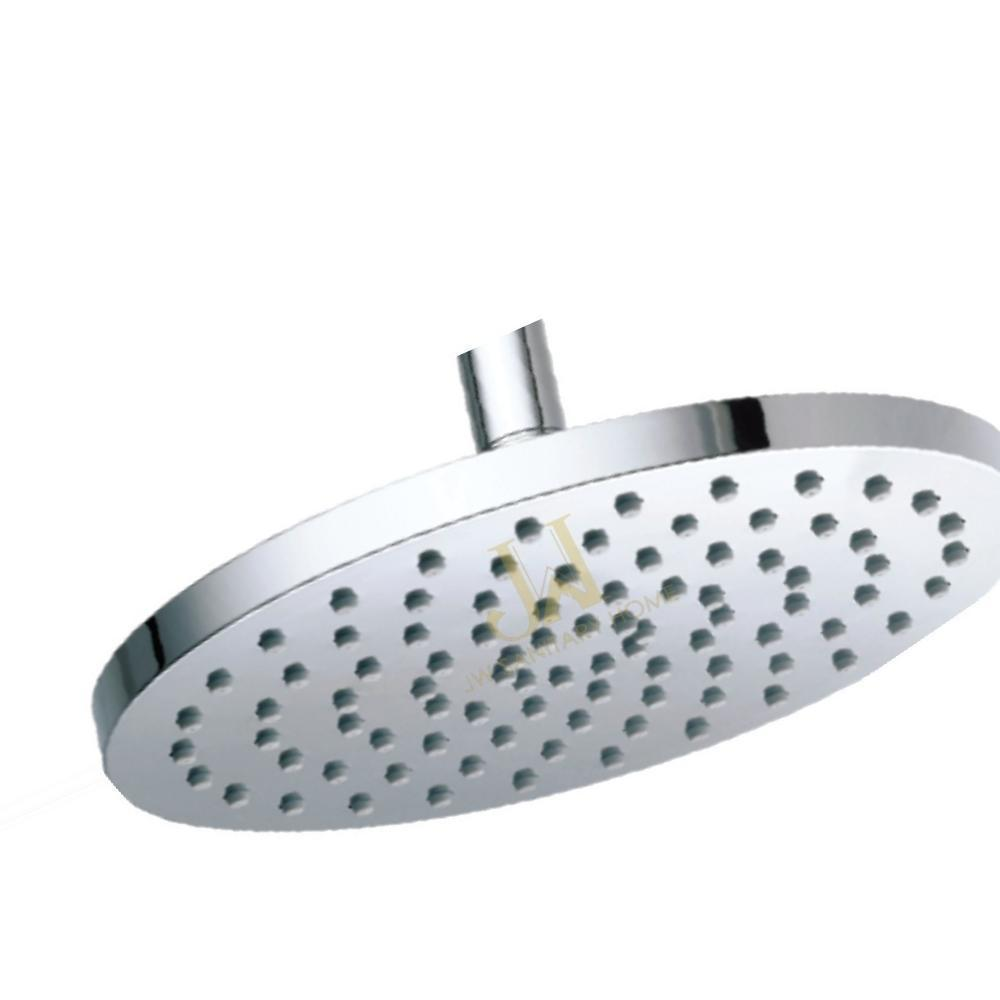Ducha: (123, 271, 999, 853)
